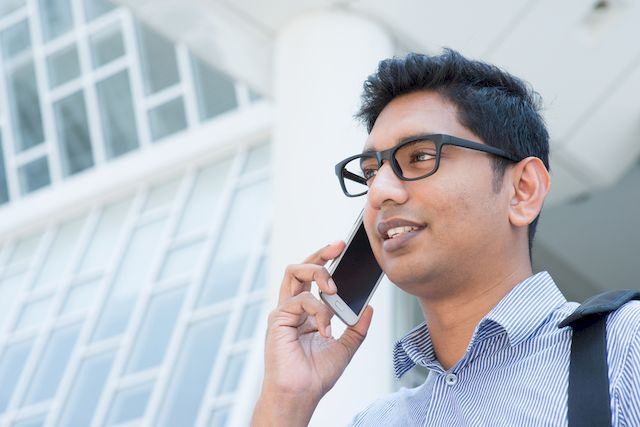phone: (295, 204, 397, 340)
talk: (261, 131, 504, 385)
